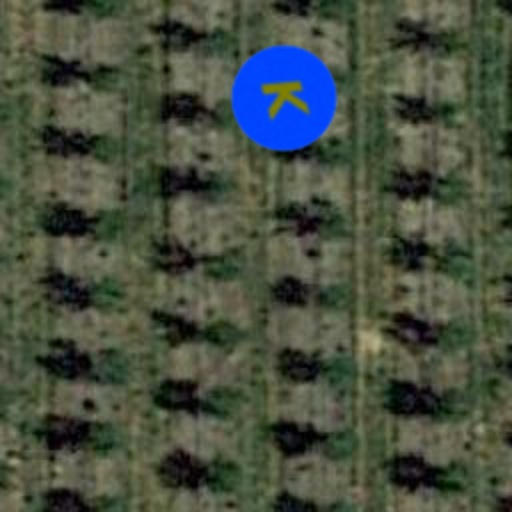circle: (218, 32, 350, 164)
